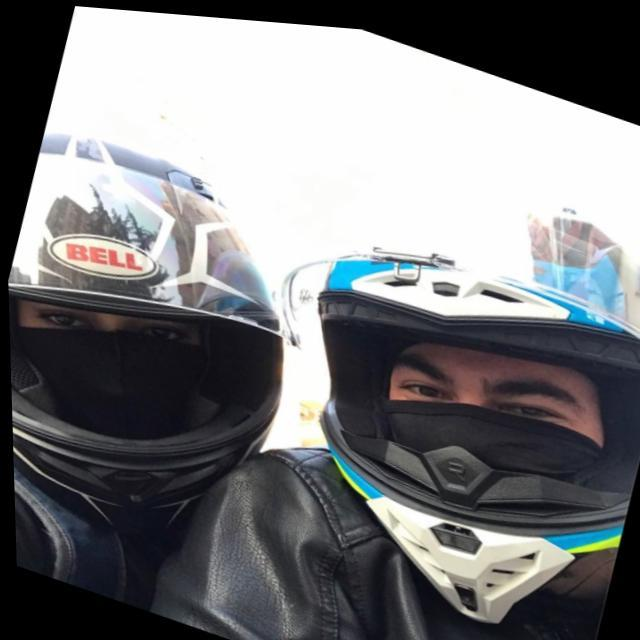Helmet: (274, 199, 640, 630), (5, 130, 283, 540)
